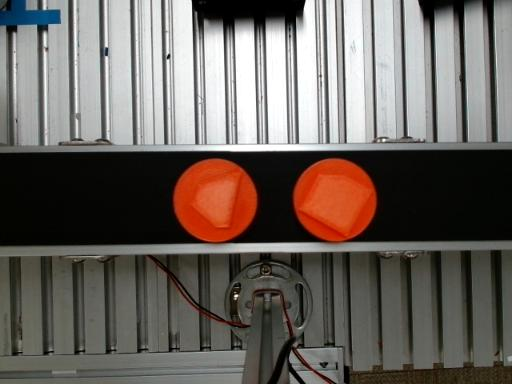Not_Square: (297, 174, 373, 238), (188, 168, 243, 228)
Orange_Waper: (173, 159, 257, 242), (293, 158, 375, 242)
